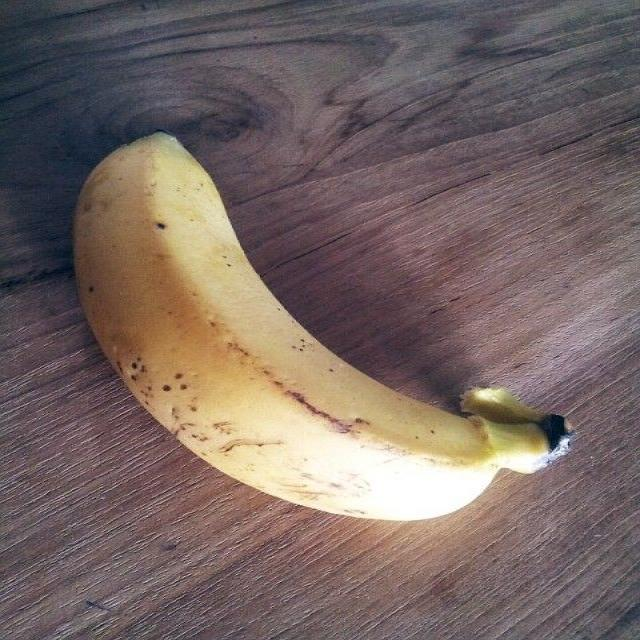Banana: (69, 126, 579, 518)
